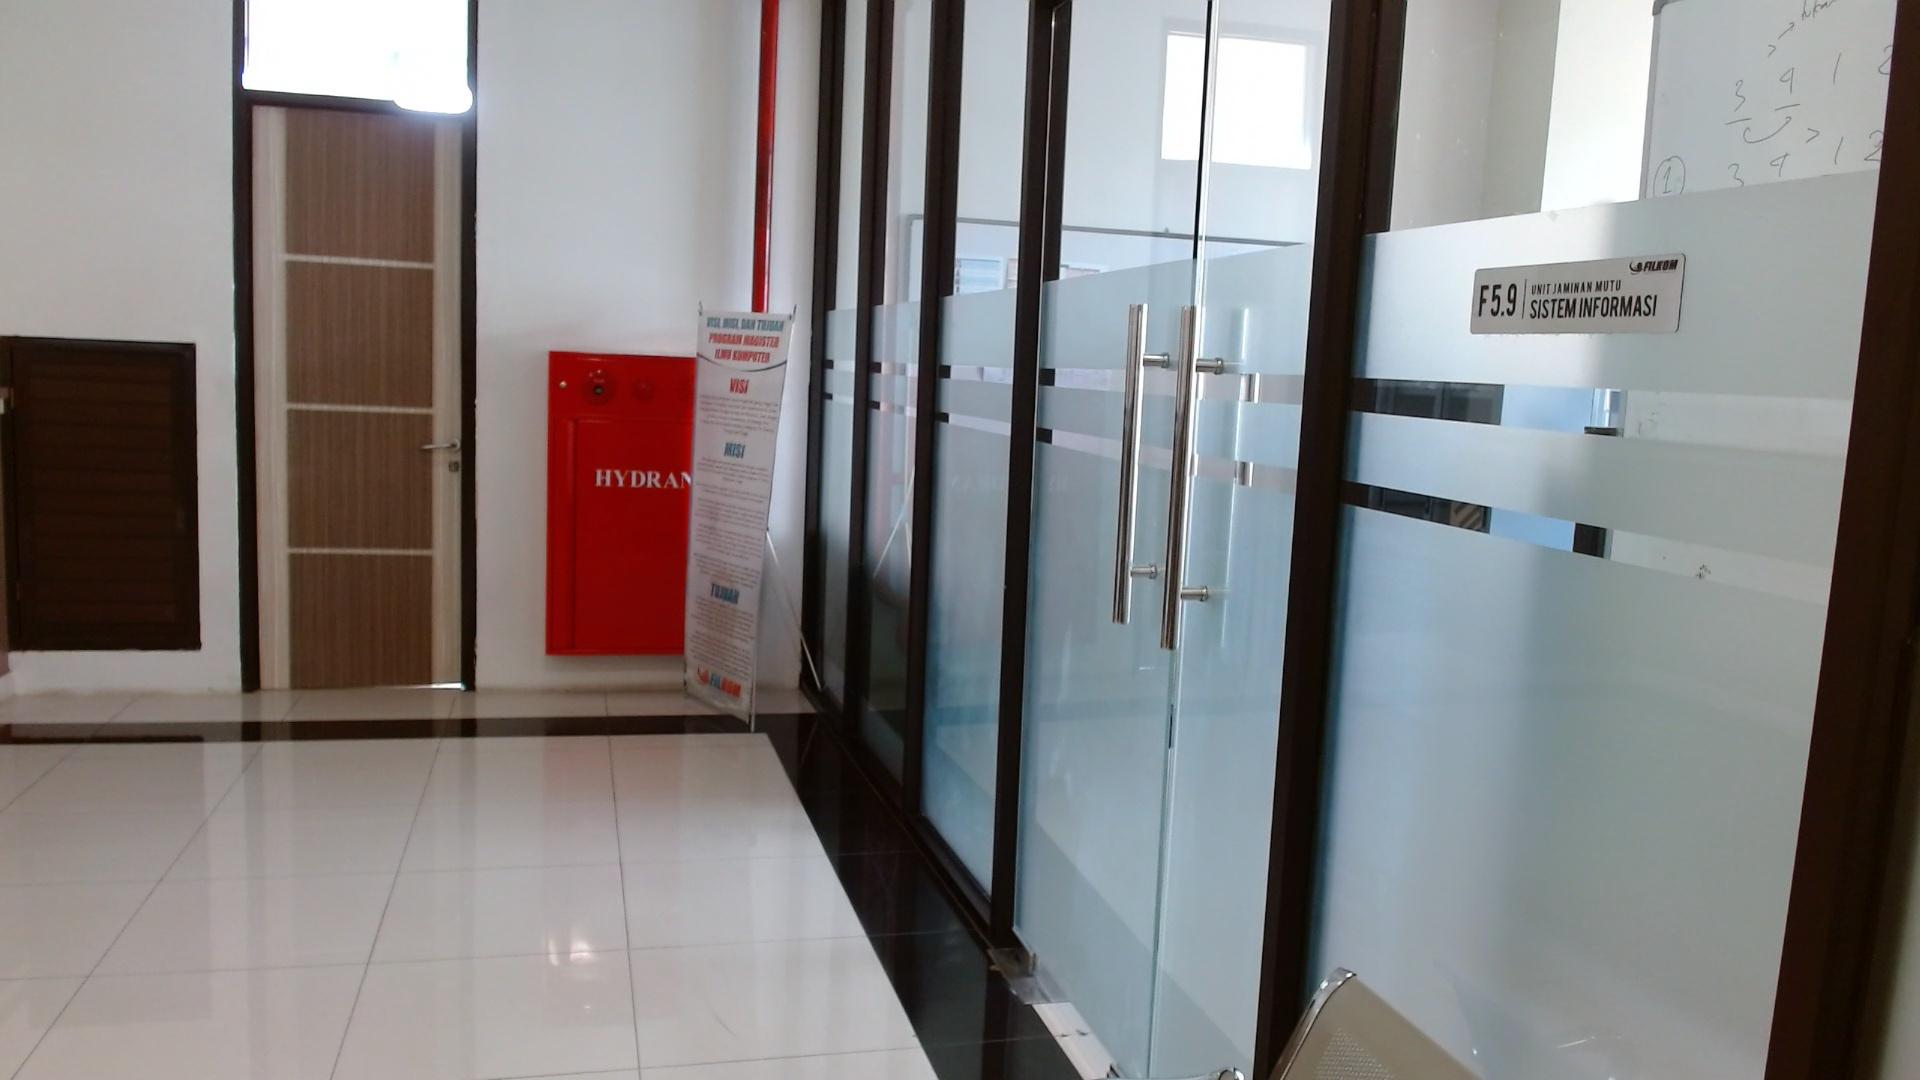plate: (1470, 252, 1685, 334)
